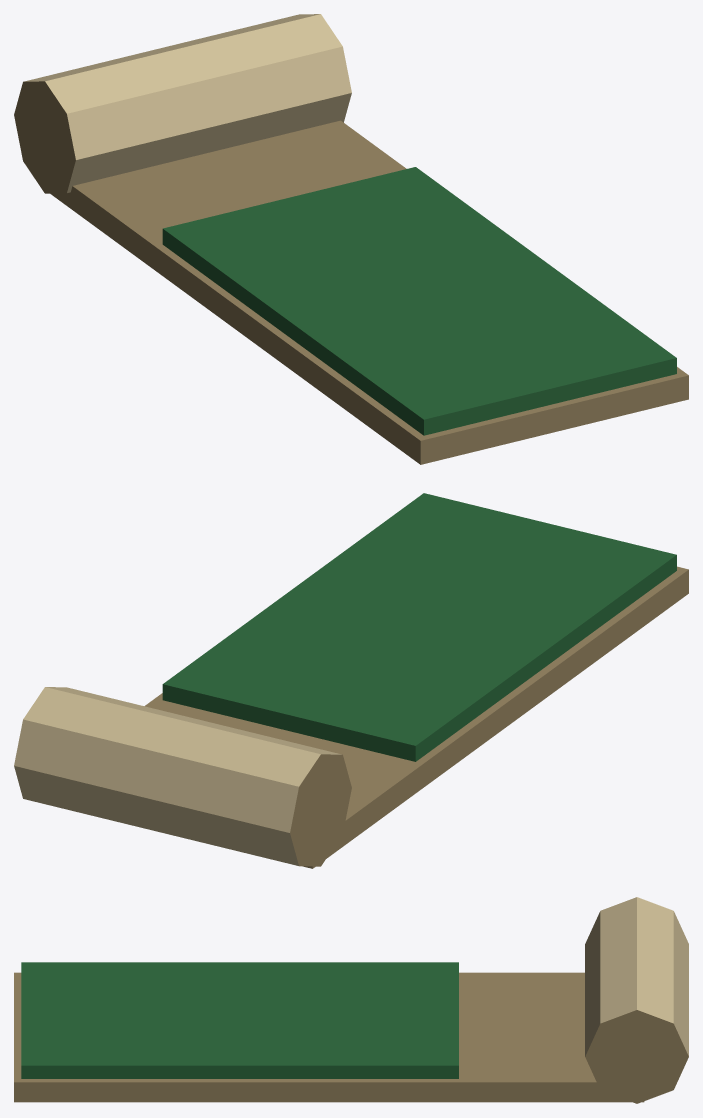
Rendered from camp_bedroll.glb.
3 views of the same model, one above another, from view 1: azimuth 30°, elevation 25°; view 2: azimuth 150°, elevation 25°; view 3: azimuth 270°, elevation 25° (orthographic). The views are drawn at different scales.
Visible parts, largest first — view 1: camp_bedroll; view 2: camp_bedroll; view 3: camp_bedroll.
Boxes of the visible parts, left/top/right/bottom form: camp_bedroll: left=14, top=14, right=688, bottom=464; camp_bedroll: left=14, top=493, right=688, bottom=868; camp_bedroll: left=14, top=897, right=688, bottom=1103.
Size of the model in its own units: 0.72 by 0.28 by 1.82.
1 material, 1 textured.
